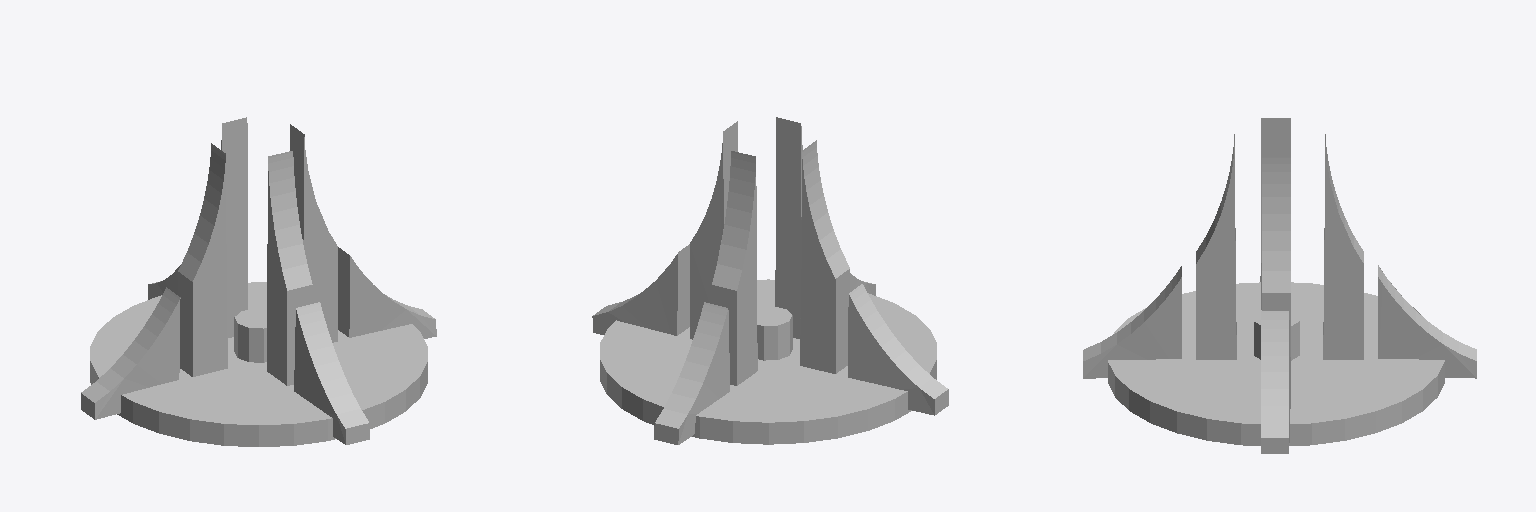
File: EngineeringFountain.obj
3 renders of one model, left to right at view 1: azimuth 30°, elevation 25°; view 2: azimuth 150°, elevation 25°; view 3: azimuth 270°, elevation 25°, orthographic.
Parts seen in each view (by area): view 1: 000_Engineering_Fountain; view 2: 000_Engineering_Fountain; view 3: 000_Engineering_Fountain.
Part boxes in pixels (x1,y1,x2,y2): 000_Engineering_Fountain: (81,117,436,446); 000_Engineering_Fountain: (592,117,948,444); 000_Engineering_Fountain: (1083,118,1476,453).
Bounding box in the file's own units: 17.92 × 11.9 × 17.92.